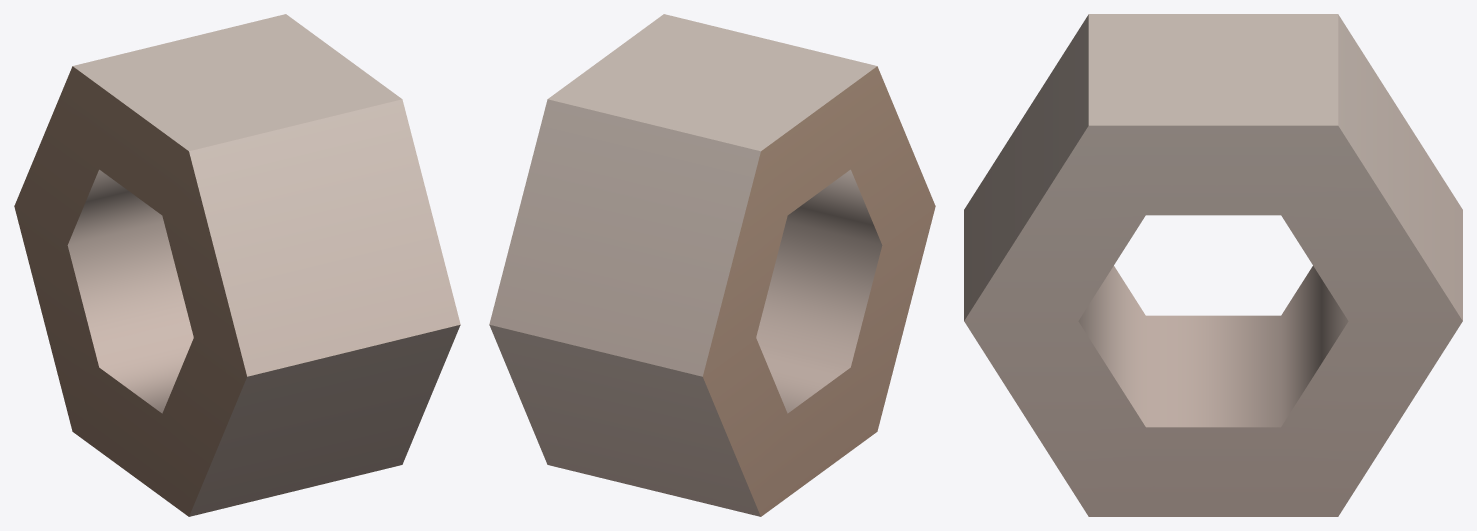
The model's file is shelf-hexagon-small (%wall).glb.
3 renders of one model, left to right at view 1: azimuth 30°, elevation 25°; view 2: azimuth 150°, elevation 25°; view 3: azimuth 270°, elevation 25°, orthographic. The views are drawn at different scales.
Parts seen in each view (by area): view 1: shelf-hexagon-small (%wall); view 2: shelf-hexagon-small (%wall); view 3: shelf-hexagon-small (%wall).
Part boxes in pixels (<box>): shelf-hexagon-small (%wall): <box>14,14,460,516</box>; shelf-hexagon-small (%wall): <box>489,14,935,516</box>; shelf-hexagon-small (%wall): <box>964,14,1462,516</box>.
Bounding box in the file's own units: 0.2 × 0.3274 × 0.378.
